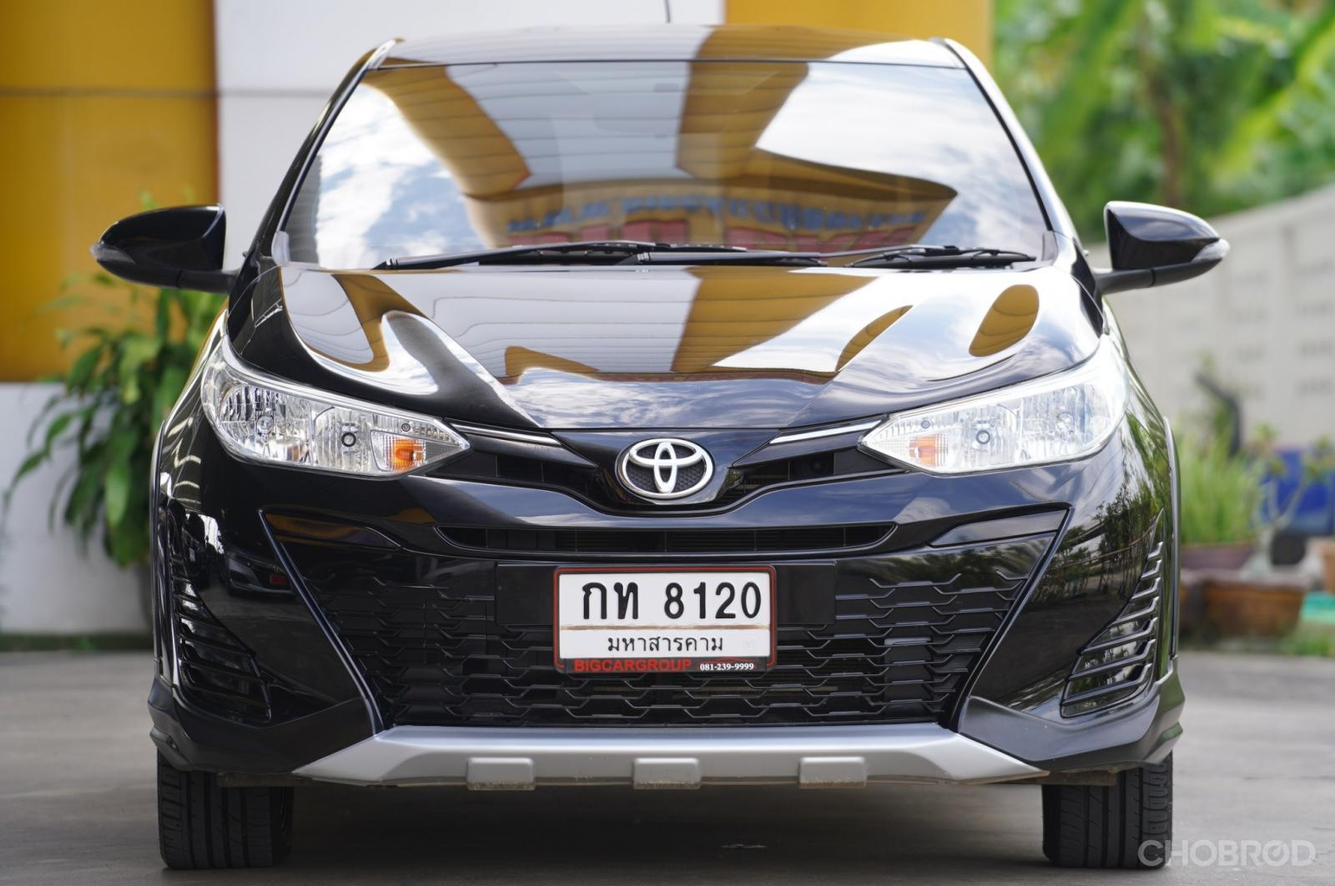license-plate: (551, 560, 779, 678)
